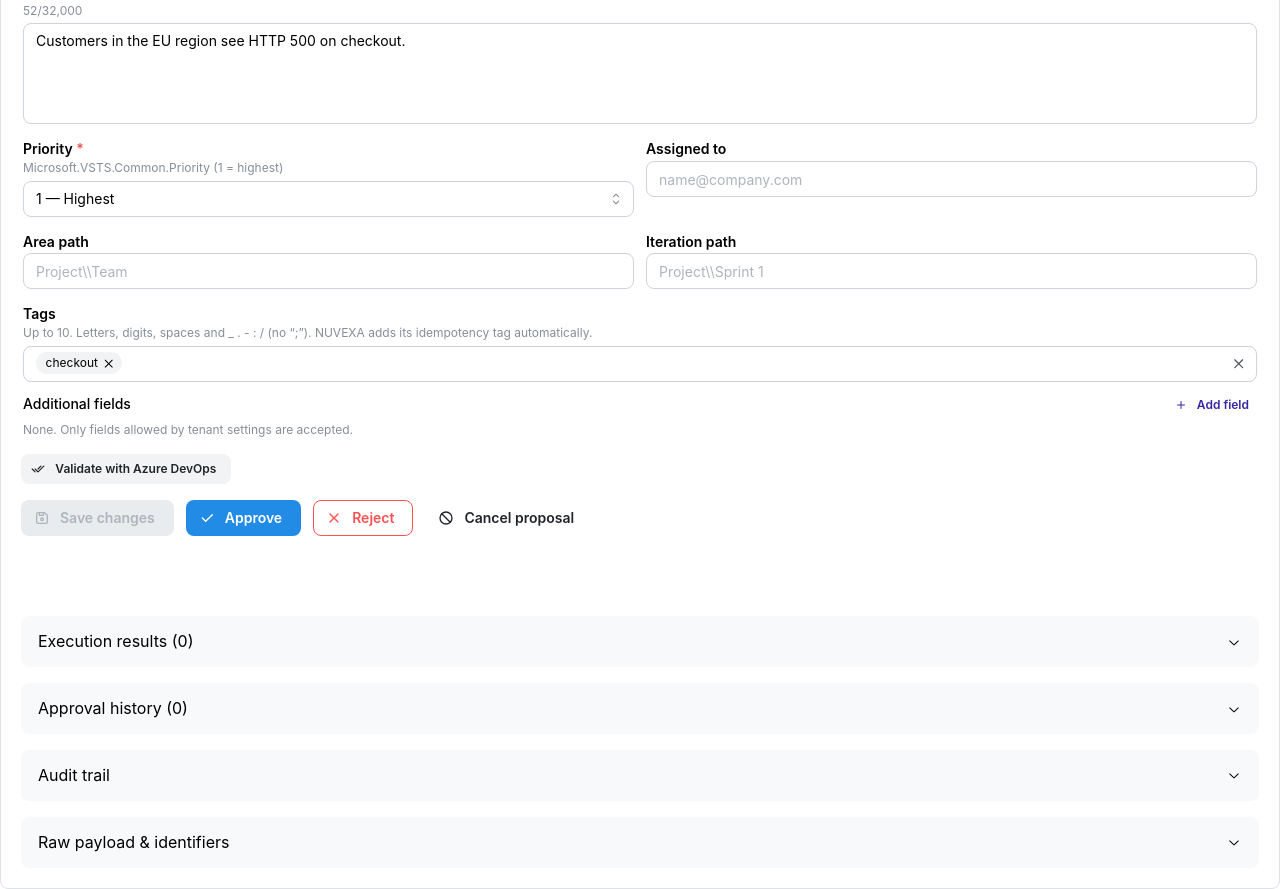
Test: <ActionCard> execution results, audit trail and raw payload › loads the audit trail lazily: skeleton → events (actor fallback)
(page scrolled)
Click the button "Audit trail": (74, 775) [22,751,1258,800]
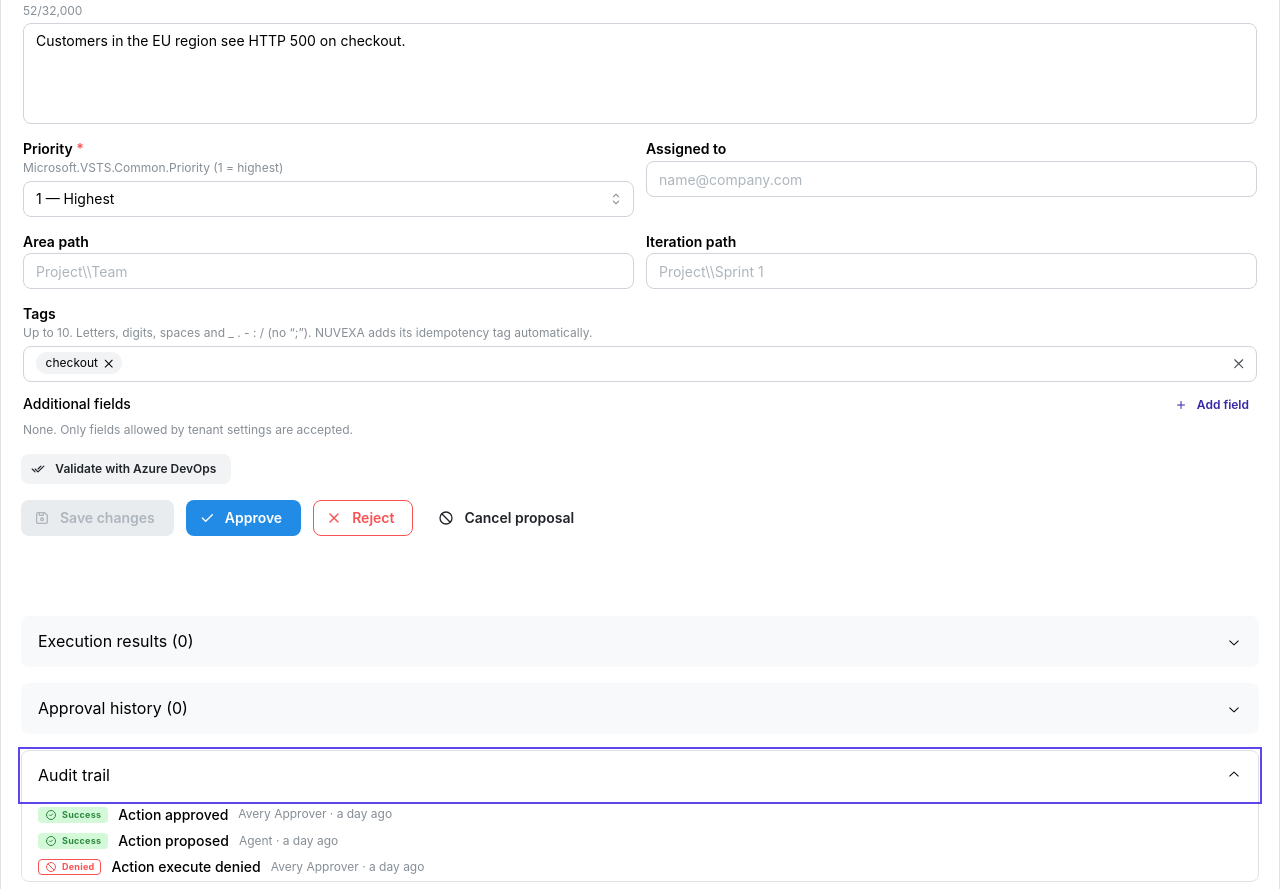
Expected: the text "Action approved" is shown, [118,805,228,825]
Expected: the text "Action proposed" is shown, [118,831,229,851]
Expected: the element named "Status: Denied" is shown, [38,859,101,875]
